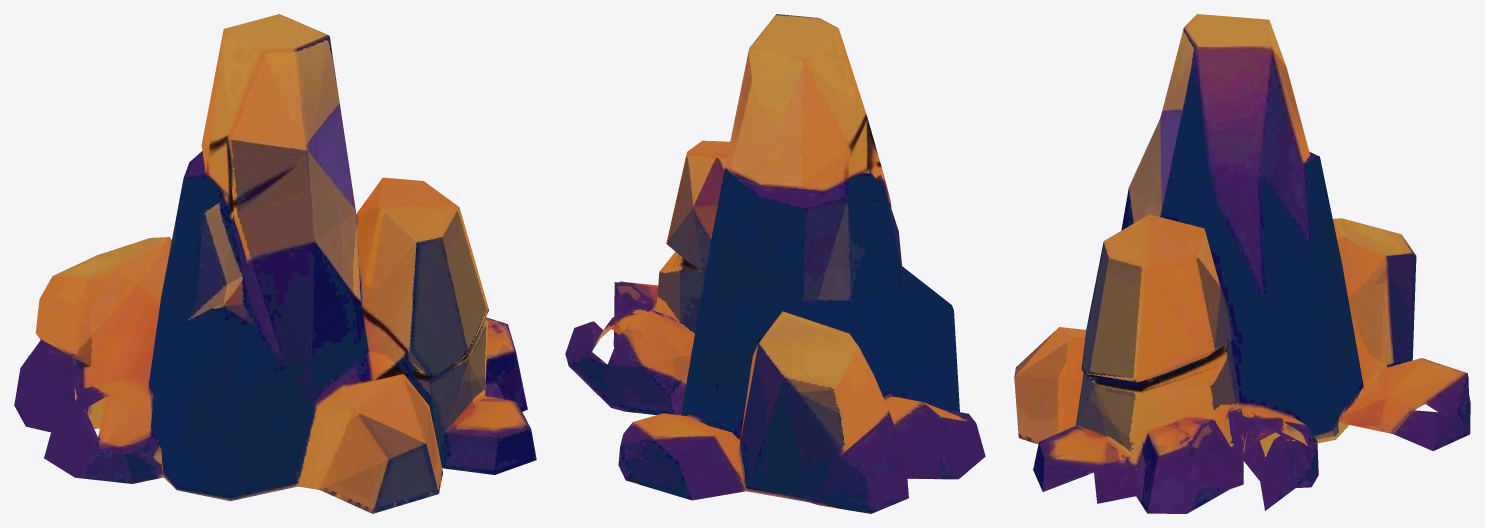
The model's file is crystal_cluster_5.glb.
3 renders of one model, left to right at view 1: azimuth 30°, elevation 25°; view 2: azimuth 150°, elevation 25°; view 3: azimuth 270°, elevation 25°, orthographic. The views are drawn at different scales.
Visible parts, largest first — view 1: Mesh_LOD0; view 2: Mesh_LOD0; view 3: Mesh_LOD0.
Boxes of the visible parts, left/top/right/bottom form: Mesh_LOD0: left=14, top=14, right=536, bottom=513; Mesh_LOD0: left=565, top=14, right=985, bottom=513; Mesh_LOD0: left=1014, top=14, right=1470, bottom=513.
Size of the model in its own units: 1.9 by 1.75 by 1.85.
1 material, 1 textured.
